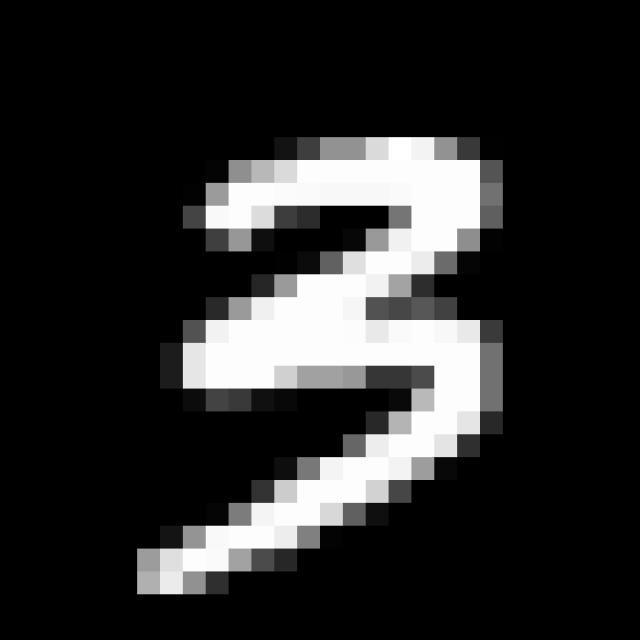three -3-: (128, 126, 508, 610)
